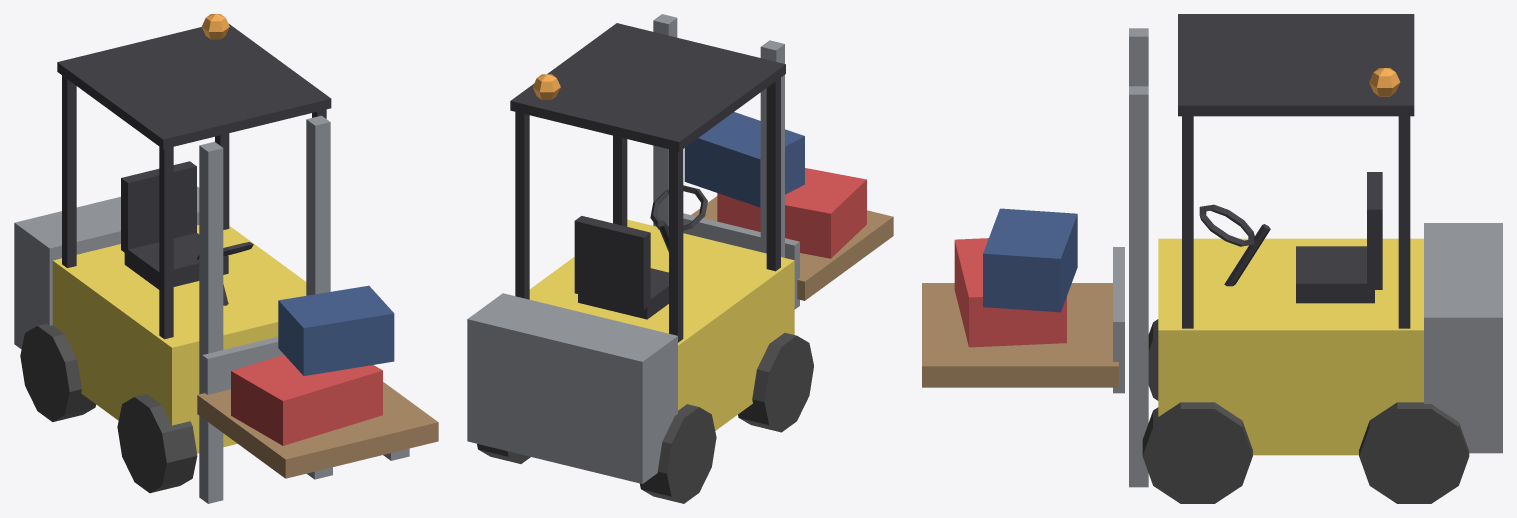
The model's file is CR_Carretilla.fbx.
3 views of the same model, side by side, from view 1: azimuth 30°, elevation 25°; view 2: azimuth 150°, elevation 25°; view 3: azimuth 270°, elevation 25° (orthographic). The views are drawn at different scales.
Parts seen in each view (by area): view 1: CR_Carretilla; view 2: CR_Carretilla; view 3: CR_Carretilla.
Boxes of the visible parts, <box> form: CR_Carretilla: <box>14,14,438,503</box>; CR_Carretilla: <box>467,14,893,503</box>; CR_Carretilla: <box>922,14,1502,503</box>.
Bounding box in the file's own units: 1.26 × 2.35 × 2.95.
